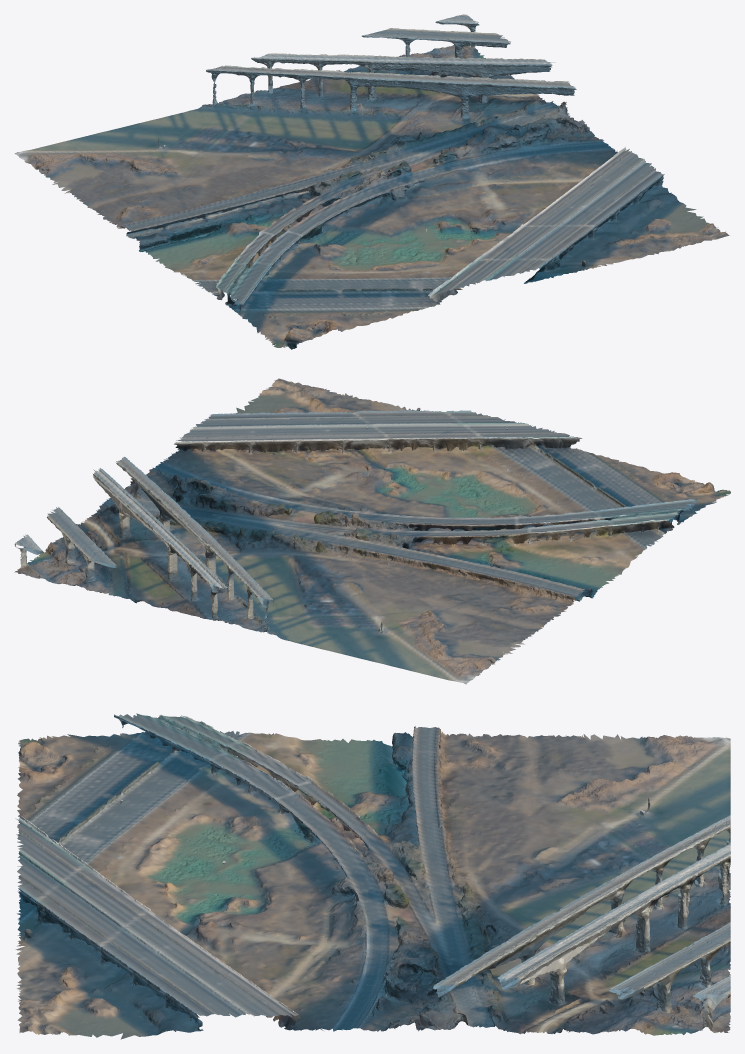
Rendered from EnvAsset_009_Tile_10.obj.
3 renders of one model, top to bottom at view 1: azimuth 30°, elevation 25°; view 2: azimuth 150°, elevation 25°; view 3: azimuth 270°, elevation 25°, orthographic. The views are drawn at different scales.
Bounding box in the file's own units: 352 × 46.13 × 352.
1 material, 1 textured.
